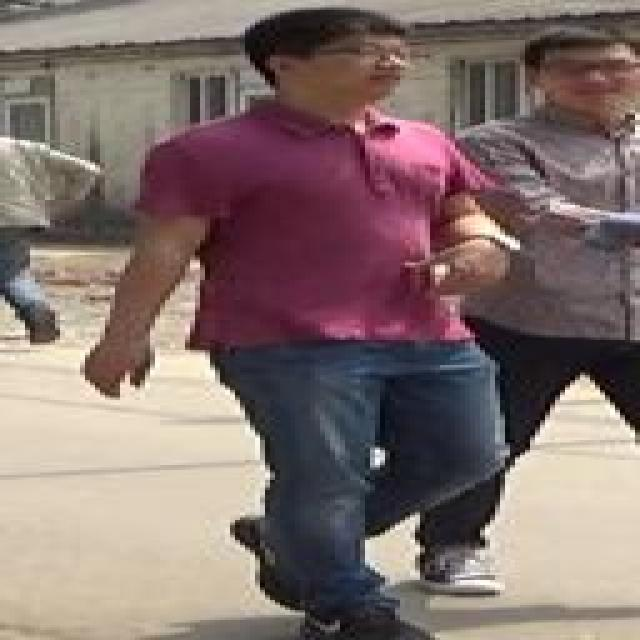adult: (139, 4, 527, 638), (450, 33, 640, 575)
